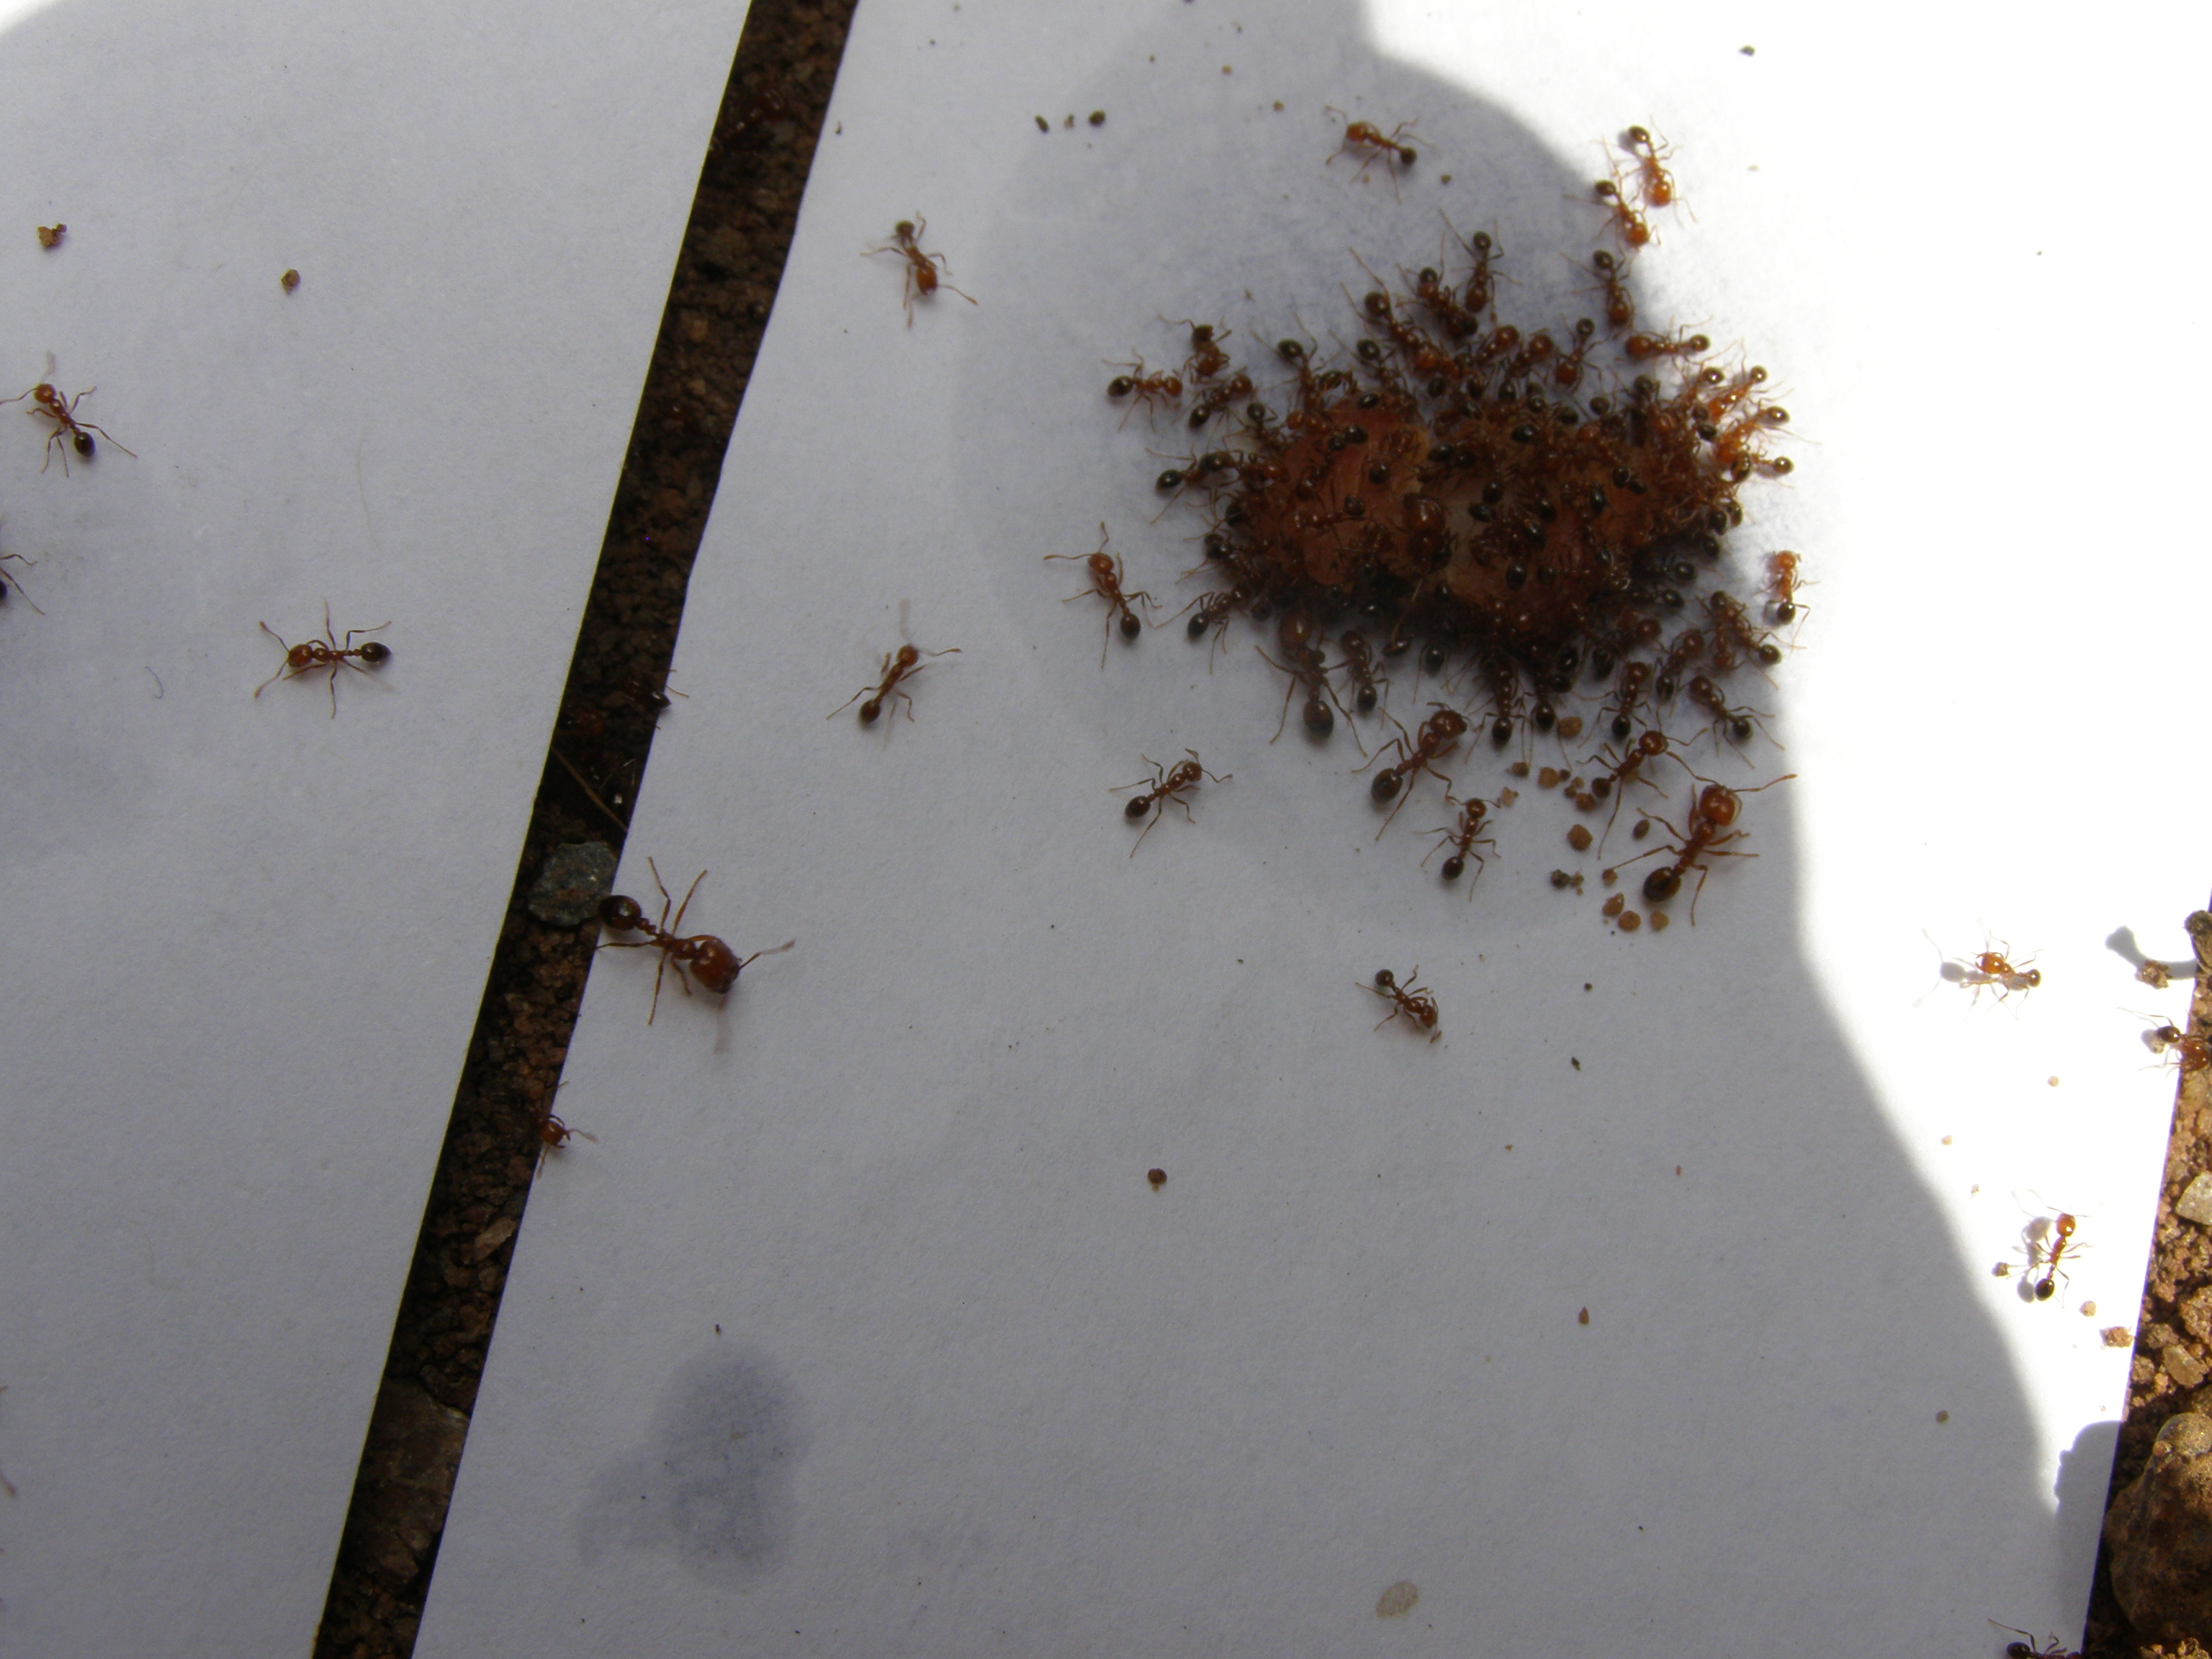Solenopsis_geminata: (589, 833, 813, 1077), (1616, 763, 1803, 950), (808, 582, 975, 777), (232, 577, 415, 748), (1029, 504, 1174, 690), (0, 335, 150, 509), (846, 186, 995, 355), (1973, 1175, 2111, 1345), (1096, 720, 1244, 878), (1912, 908, 2060, 1054), (1310, 82, 1447, 225), (1341, 938, 1465, 1089), (1350, 681, 1477, 826), (1414, 774, 1522, 917), (0, 471, 66, 666), (1575, 708, 1684, 816)
